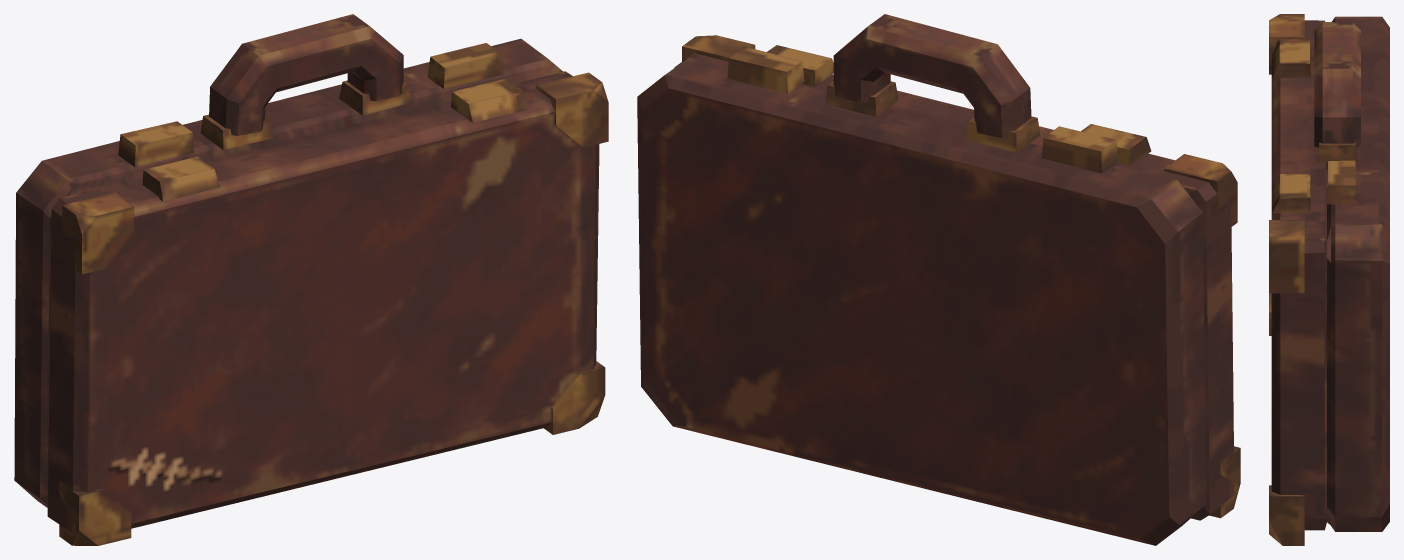
The model's file is CI18_BatteredCase.fbx.
3 renders of one model, left to right at view 1: azimuth 30°, elevation 25°; view 2: azimuth 150°, elevation 25°; view 3: azimuth 270°, elevation 25°, orthographic. The views are drawn at different scales.
Parts seen in each view (by area): view 1: CI18_BatteredCase; view 2: CI18_BatteredCase; view 3: CI18_BatteredCase.
Part boxes in pixels (x1,y1,x2,y2): CI18_BatteredCase: (14,14,608,545); CI18_BatteredCase: (637,14,1240,545); CI18_BatteredCase: (1269,14,1389,545).
Bounding box in the file's own units: 0.2037 × 0.1554 × 0.044.
1 material, 1 textured.
